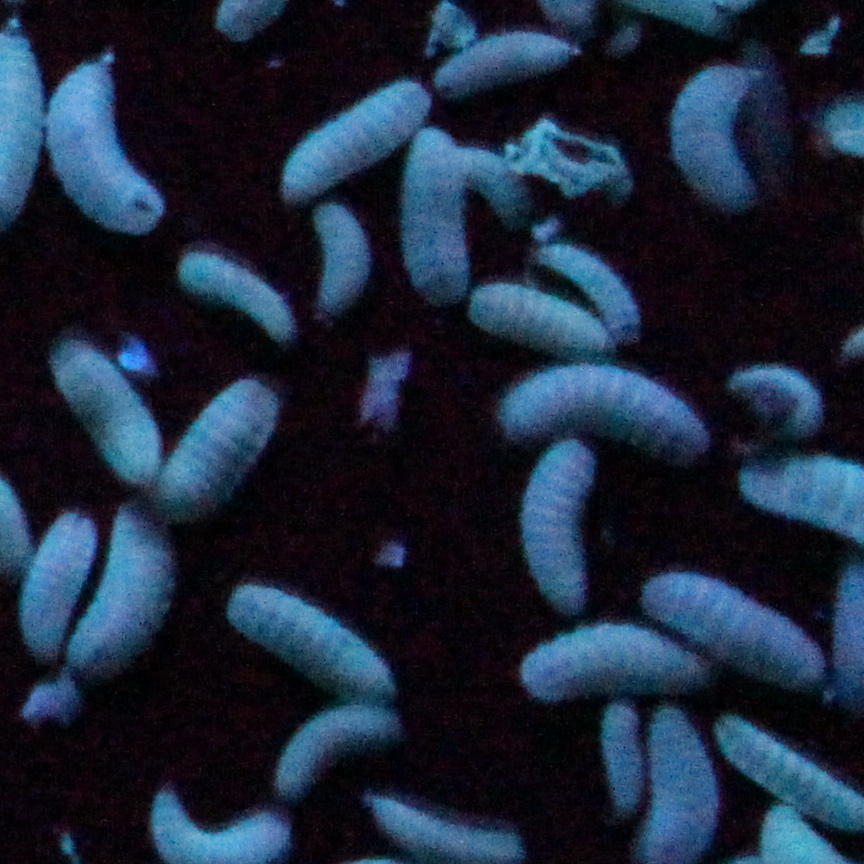larve: (54, 61, 172, 228), (230, 578, 388, 693), (73, 504, 180, 670), (158, 380, 286, 511), (650, 581, 819, 680), (287, 87, 426, 199), (509, 365, 702, 444), (716, 708, 853, 819), (401, 124, 475, 314), (522, 434, 596, 609), (524, 622, 701, 693), (57, 353, 160, 475), (464, 287, 615, 363), (20, 512, 96, 658), (684, 69, 758, 218), (278, 704, 396, 793), (530, 250, 632, 342), (178, 260, 293, 334), (440, 42, 572, 87), (324, 206, 375, 320), (466, 151, 528, 228), (607, 703, 640, 811)
